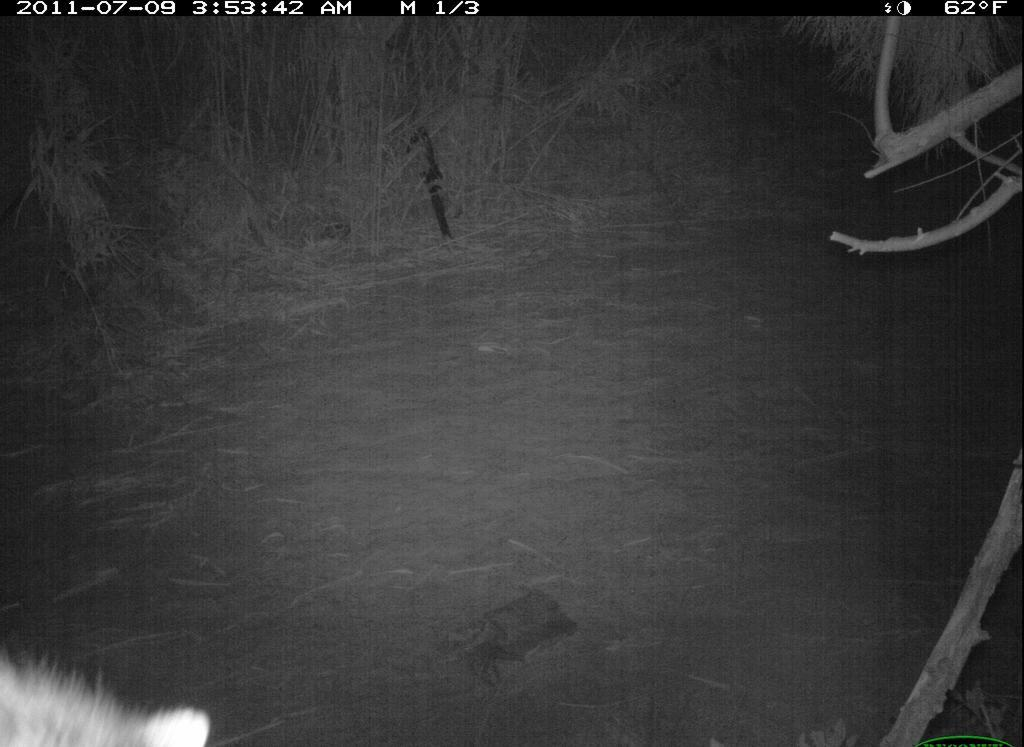raccoon: (1, 641, 217, 747)
